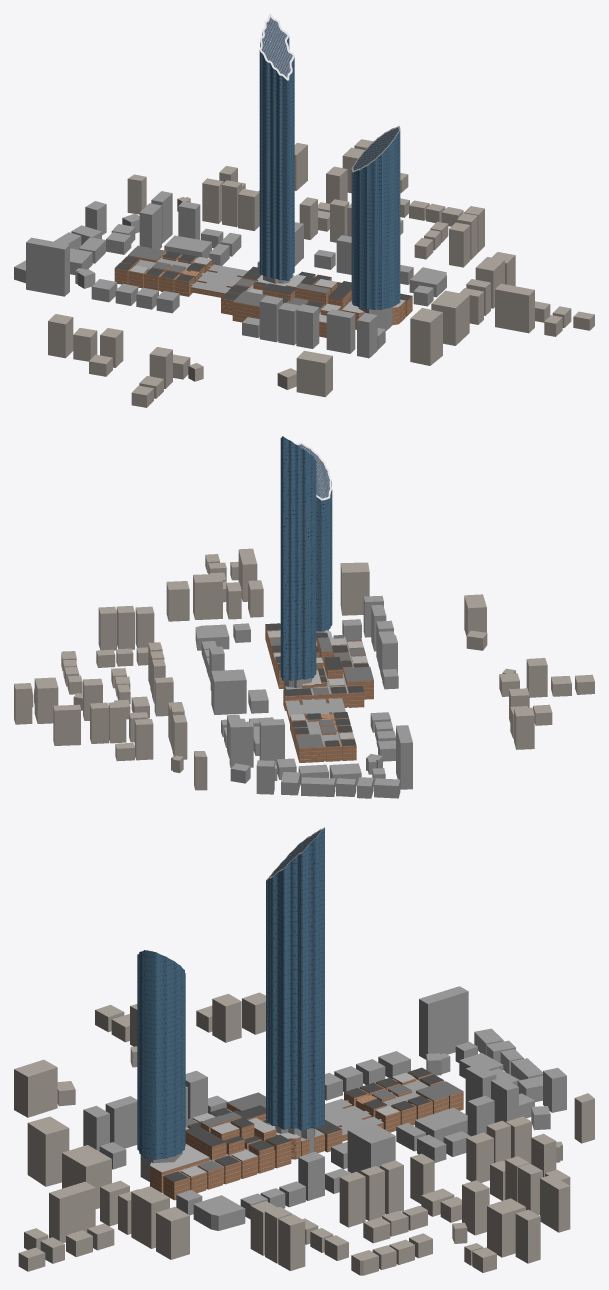
Rendered from WTC.glb.
3 renders of one model, top to bottom at view 1: azimuth 30°, elevation 25°; view 2: azimuth 150°, elevation 25°; view 3: azimuth 270°, elevation 25°, orthographic. The views are drawn at different scales.
Visible parts, largest first — view 1: SketchUp.002, SketchUp.001, SketchUp, group_3, group_81, group_90, group_96, group_6, group_60, SketchUp.106, group_54, group_52 (+26 smaller); view 2: SketchUp.002, SketchUp, SketchUp.001, group_19, group_90, group_65, group_67, group_20, group_64, group_73, group_3, group_95 (+27 smaller); view 3: SketchUp.002, SketchUp.001, SketchUp, group_3, group_90, group_81, group_96, group_19, group_6, group_65, group_73, group_95 (+38 smaller).
Part boxes in pixels (box(x1,y1,x2,y2)): SketchUp.002: box(259, 32, 294, 280); SketchUp.001: box(351, 131, 400, 309); SketchUp: box(114, 248, 412, 337); group_3: box(26, 237, 69, 296); group_81: box(495, 283, 534, 333); group_90: box(410, 308, 442, 365); group_96: box(296, 350, 332, 397); group_6: box(431, 290, 469, 345); group_60: box(326, 309, 355, 353); SketchUp.106: box(261, 17, 292, 77); group_54: box(48, 314, 73, 358); group_52: box(296, 304, 319, 348); SketchUp.002: box(280, 436, 316, 680); SketchUp: box(265, 625, 373, 762); SketchUp.001: box(316, 481, 332, 631); group_19: box(211, 669, 246, 714); group_90: box(340, 562, 369, 615); group_65: box(193, 573, 222, 619); group_67: box(53, 704, 80, 745); group_20: box(229, 721, 253, 767); group_64: box(259, 719, 284, 765); group_73: box(34, 677, 58, 723); group_3: box(396, 725, 412, 789); group_95: box(166, 581, 189, 621); SketchUp.002: box(266, 828, 324, 1130); SketchUp.001: box(137, 950, 185, 1159); SketchUp: box(150, 1072, 463, 1200); group_3: box(419, 986, 468, 1059); group_90: box(27, 1116, 69, 1186); group_81: box(49, 1181, 95, 1242); group_96: box(14, 1059, 57, 1117); group_19: box(347, 1122, 395, 1173); group_6: box(62, 1145, 111, 1208); group_65: box(131, 1186, 169, 1248); group_73: box(487, 1198, 525, 1257); group_95: box(156, 1207, 189, 1259).
Size of the model in its own units: 0.9889 by 0.5724 by 0.9249.
11 materials, 3 textured.
